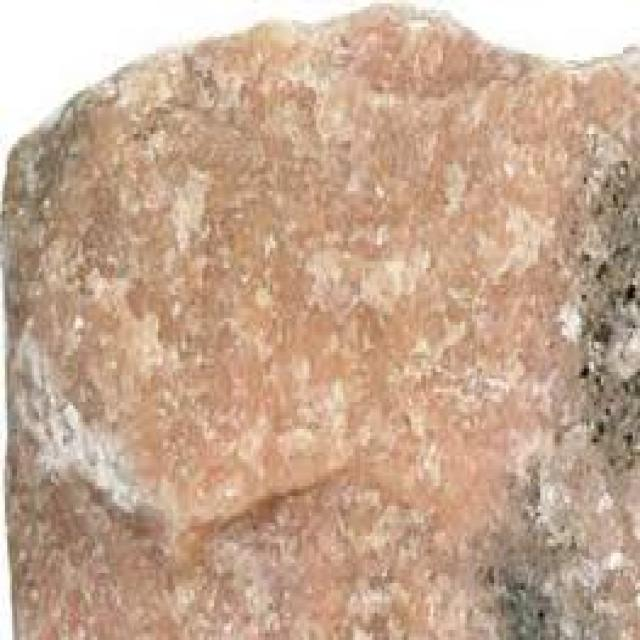Metamorphic: (2, 10, 630, 627)
